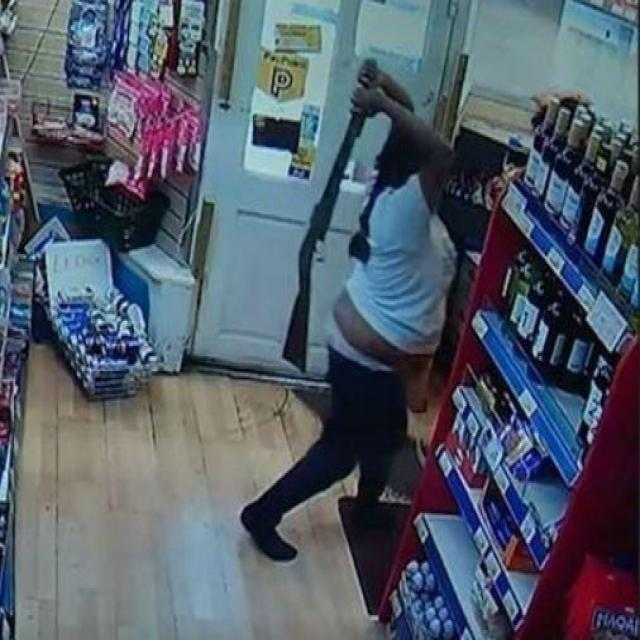gun: (284, 58, 378, 372)
